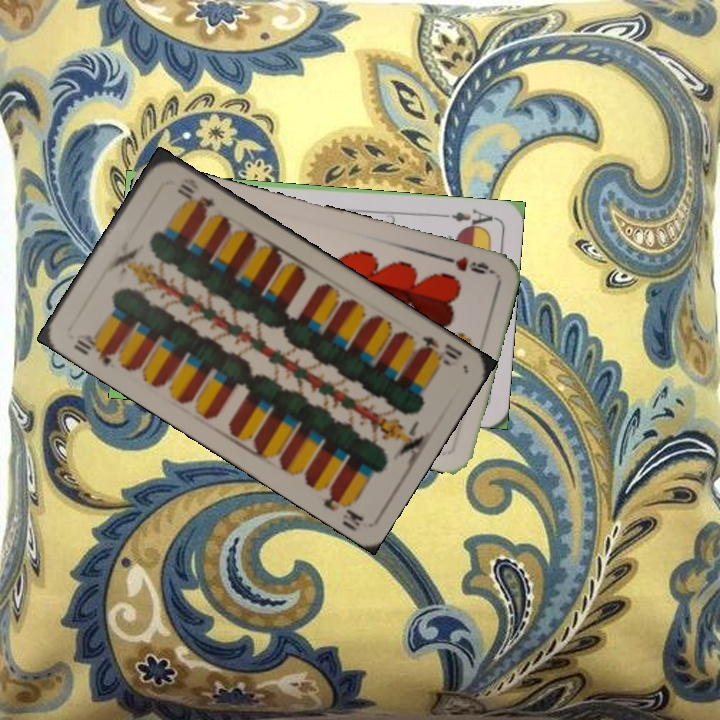E10: (69, 330, 119, 368), (415, 332, 465, 369)
EA: (438, 205, 498, 233)
H9: (437, 252, 495, 277)
